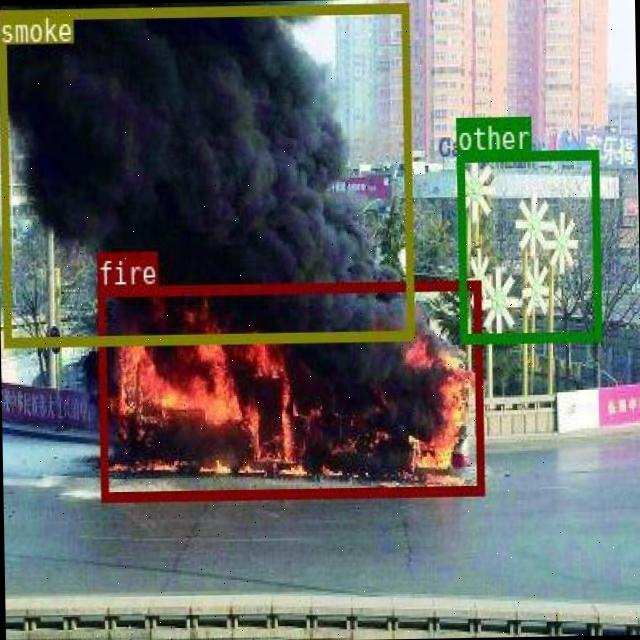fire: (97, 278, 482, 500)
smoke: (0, 1, 413, 345)
